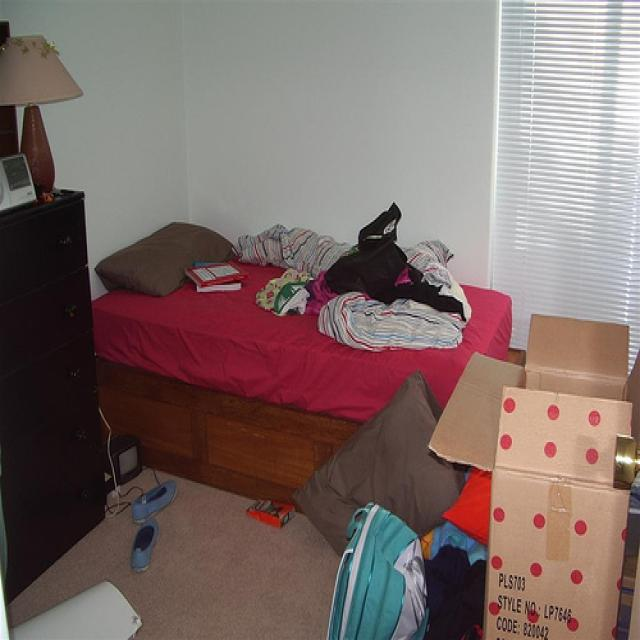tvmonitor: (103, 435, 143, 486)
